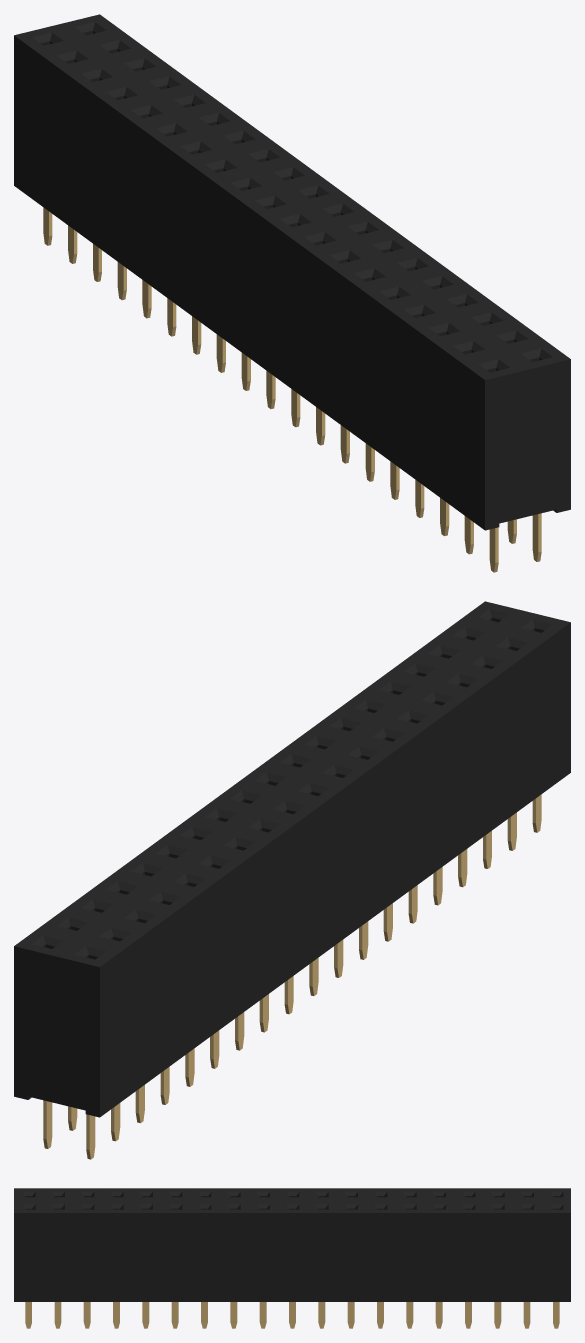
The model's file is kc-pinsocket_2x19_p2.54mm_vertical.glb.
3 renders of one model, top to bottom at view 1: azimuth 30°, elevation 25°; view 2: azimuth 150°, elevation 25°; view 3: azimuth 270°, elevation 25°, orthographic. The views are drawn at different scales.
Visible parts, largest first — view 1: 0_0_0_0, 0.75_0.5_0.25_0.9; view 2: 0_0_0_0, 0.75_0.5_0.25_0.9; view 3: 0_0_0_0, 0.75_0.5_0.25_0.9.
Boxes of the visible parts, x1,y1,x2,y2 form: 0_0_0_0: [14, 14, 570, 530]; 0.75_0.5_0.25_0.9: [43, 207, 541, 572]; 0_0_0_0: [14, 601, 570, 1117]; 0.75_0.5_0.25_0.9: [43, 794, 541, 1159]; 0_0_0_0: [14, 1188, 570, 1301]; 0.75_0.5_0.25_0.9: [25, 1302, 559, 1328].
Bounding box in the file's own units: 0.5078 × 1.16 × 4.83.
